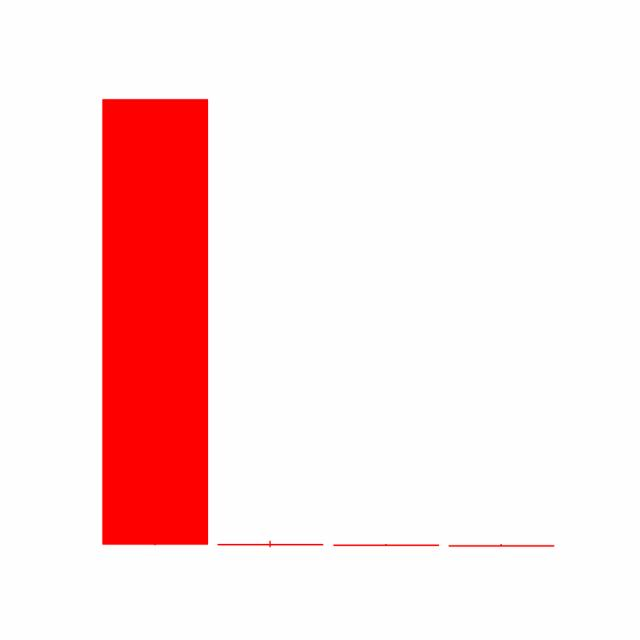Hanging Man: (328, 543, 444, 546)
